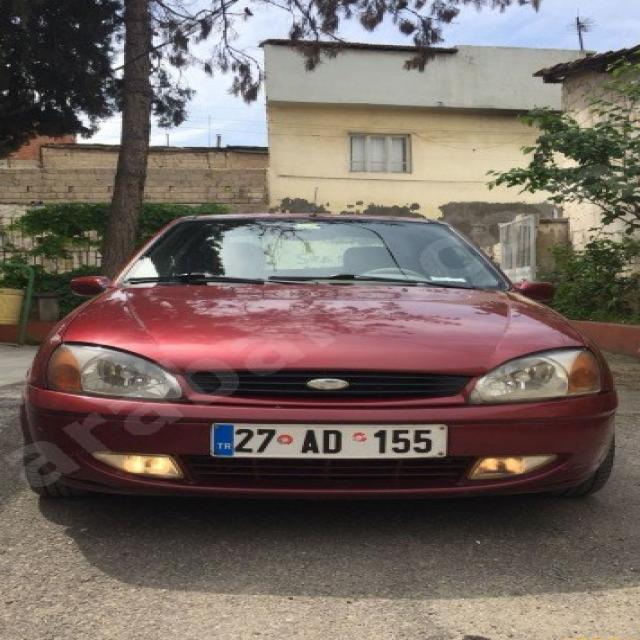license_plate: (211, 424, 449, 458)
